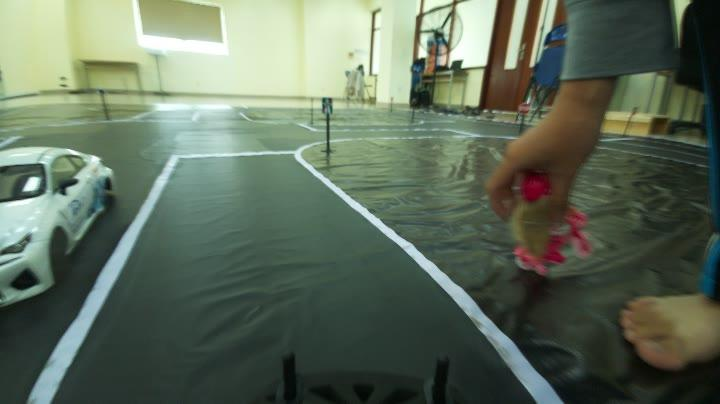car: (0, 98, 107, 308)
